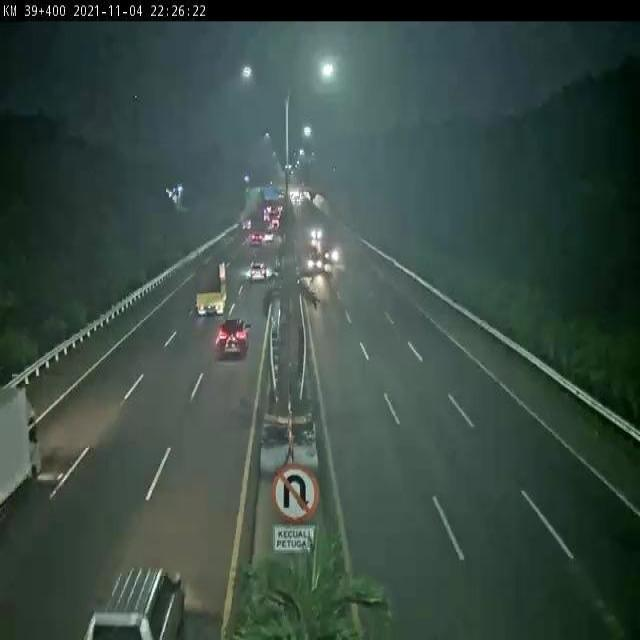Car: (84, 562, 188, 640), (215, 317, 252, 357), (250, 263, 268, 283), (263, 231, 276, 243), (250, 232, 262, 243)
Truck: (0, 385, 43, 523), (194, 256, 230, 316), (243, 218, 252, 230)
